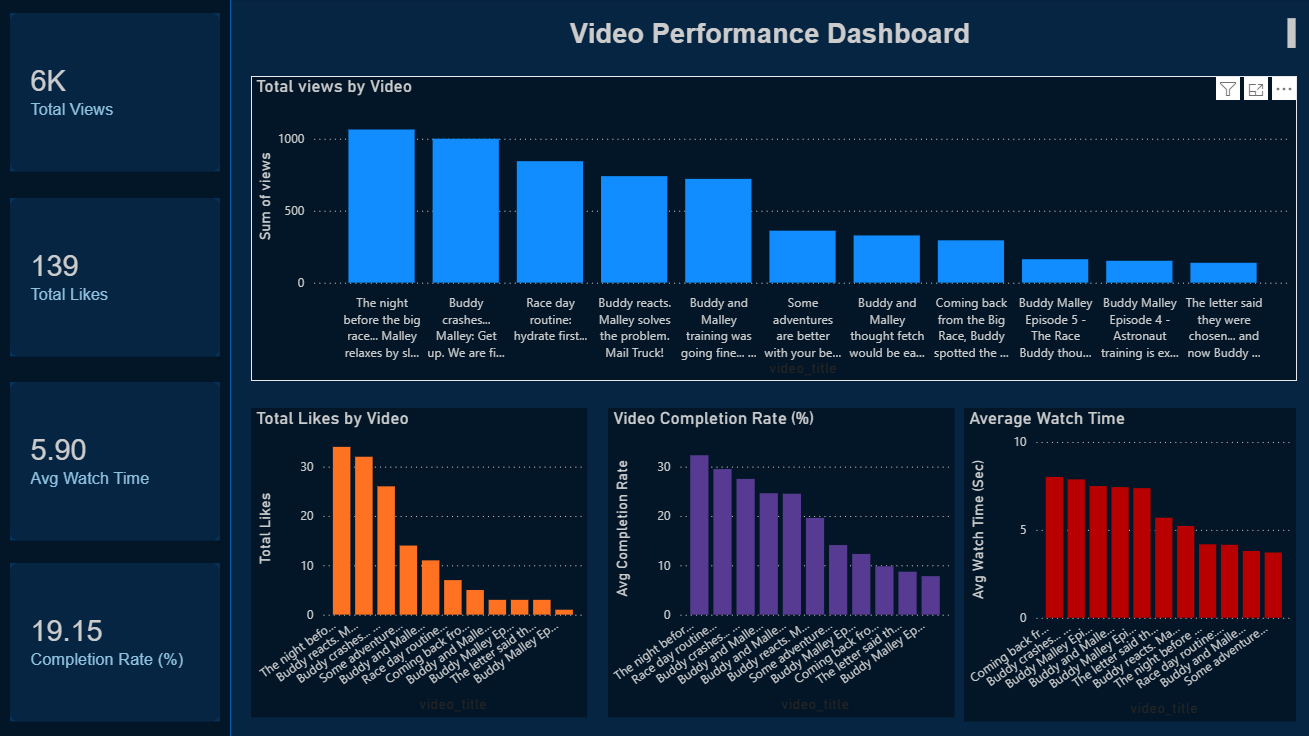

This screenshot's page, from the dashboard's own definition file:
{"tool":"powerbi","page":{"name":"Page 1","canvas":[1280,720],"ordinal":0},"visuals":[{"type":"shape","box":[221.1,0,1058.9,720],"z":0},{"type":"shape","box":[0,0,227.8,720],"z":1000},{"type":"cardVisual","fields":{"Data":["Videos.Total Views"]},"box":[12.2,14.4,204.4,154.4],"z":2000},{"type":"cardVisual","fields":{"Data":["Videos.Total Likes"]},"box":[12.2,194.4,204.4,154.4],"z":3000},{"type":"cardVisual","fields":{"Data":["Videos.Avg Watch Time"]},"box":[12.2,373.3,204.4,154.4],"z":4000},{"type":"cardVisual","fields":{"Data":["Videos.Avg Completion Rate"]},"box":[12.2,550,204.4,154.4],"z":5000},{"type":"clusteredColumnChart","title":"Total views by Video","fields":{"Y":["Sum(Videos.views)"],"Category":["Videos.video_title"]},"box":[247,76,1017,297],"z":6000},{"type":"clusteredColumnChart","title":"Total Likes by Video","fields":{"Y":["Sum(Videos.likes)"],"Category":["Videos.video_title"]},"box":[247,399,327,301],"z":7000},{"type":"clusteredColumnChart","title":"Average Watch Time","fields":{"Y":["Sum(Videos.average_watch_time_seconds)"],"Category":["Videos.video_title"]},"box":[941,399,323,305],"z":8000},{"type":"clusteredColumnChart","title":"Video Completion Rate (%)","fields":{"Y":["Videos.Avg Completion Rate"],"Category":["Videos.video_title"]},"box":[594,399,337,301],"z":9000},{"type":"textbox","title":"Key Findings","box":[244,15,1024,40],"z":9001}]}

Visuals, with their boxes in screenshot pixels (x1, y1, x2, y2), scaled from the page's 1280x720 canvas onto the 1309x736 screenshot:
shape: [226, 0, 1308, 735]
shape: [0, 0, 233, 735]
cardVisual - Videos.Total Views: [12, 15, 222, 173]
cardVisual - Videos.Total Likes: [12, 199, 222, 357]
cardVisual - Videos.Avg Watch Time: [12, 382, 222, 539]
cardVisual - Videos.Avg Completion Rate: [12, 562, 222, 720]
"Total views by Video" clusteredColumnChart: [253, 78, 1293, 381]
"Total Likes by Video" clusteredColumnChart: [253, 408, 587, 716]
"Average Watch Time" clusteredColumnChart: [962, 408, 1293, 720]
"Video Completion Rate (%)" clusteredColumnChart: [607, 408, 952, 716]
"Key Findings" textbox: [250, 15, 1297, 56]
